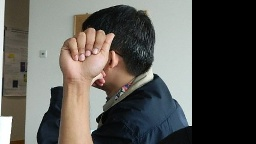Pugno: (54, 24, 118, 88)
